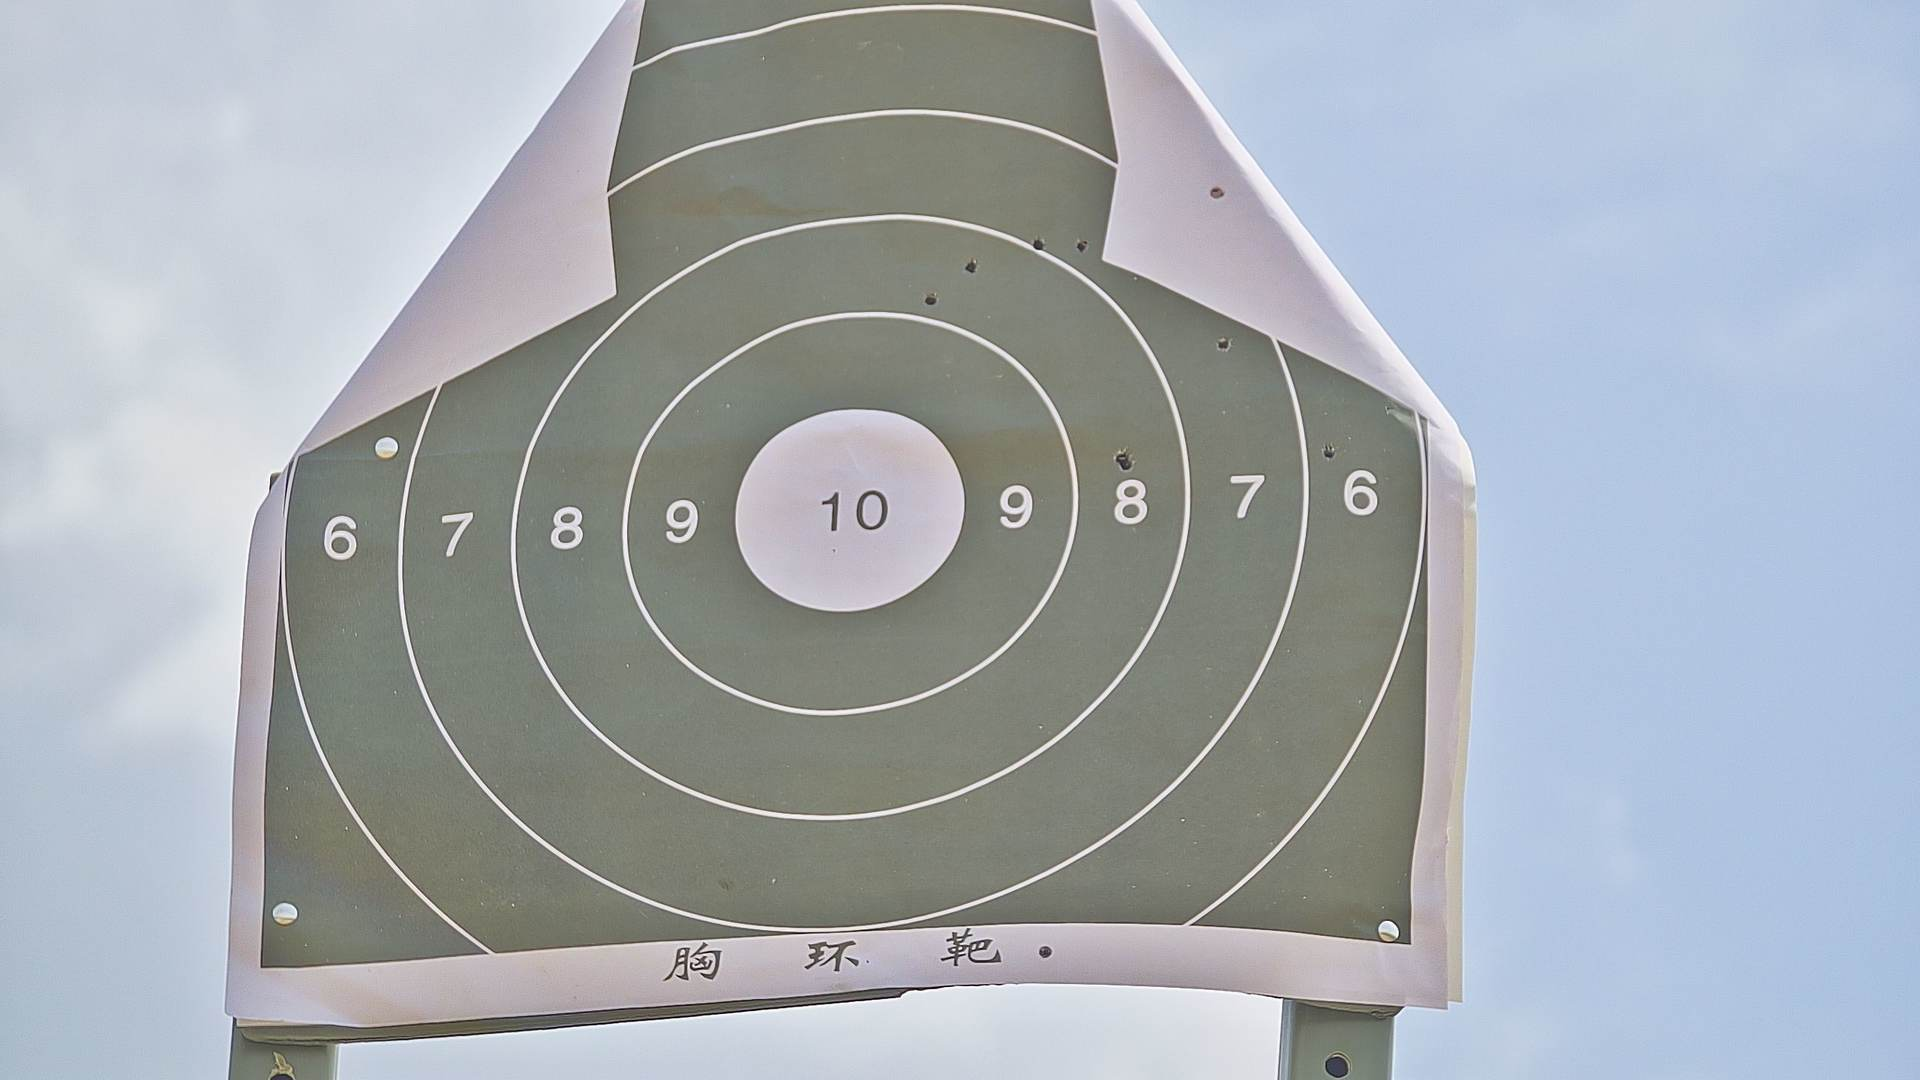hole: (1323, 446, 1337, 462), (1217, 338, 1232, 351), (1114, 450, 1127, 463), (1076, 239, 1088, 253), (923, 294, 939, 305), (1033, 237, 1044, 251), (1122, 459, 1135, 471), (967, 258, 976, 272)
kernel: (847, 505, 852, 512)
target: (258, 3, 1422, 965)
ten: (733, 409, 972, 615)
